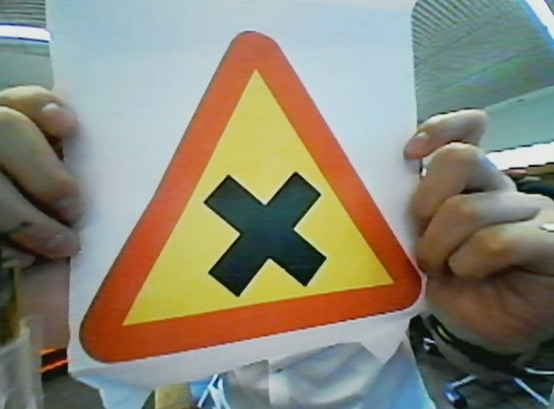junction: (68, 21, 417, 353)
